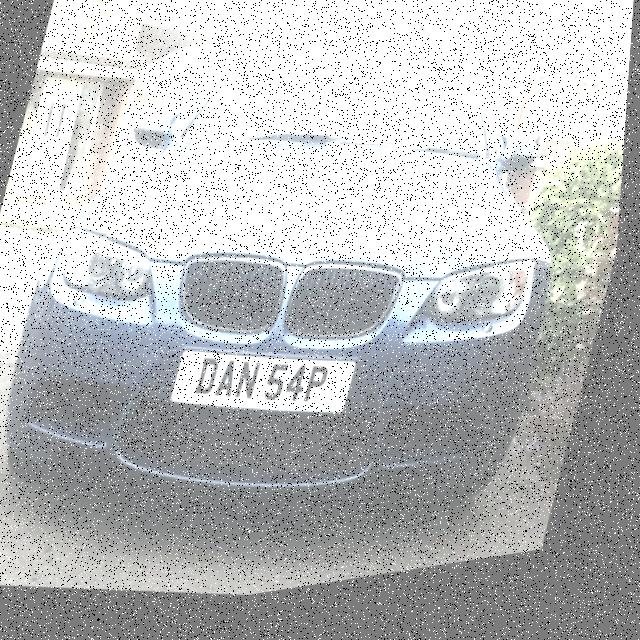license_plate: (172, 330, 364, 449)
